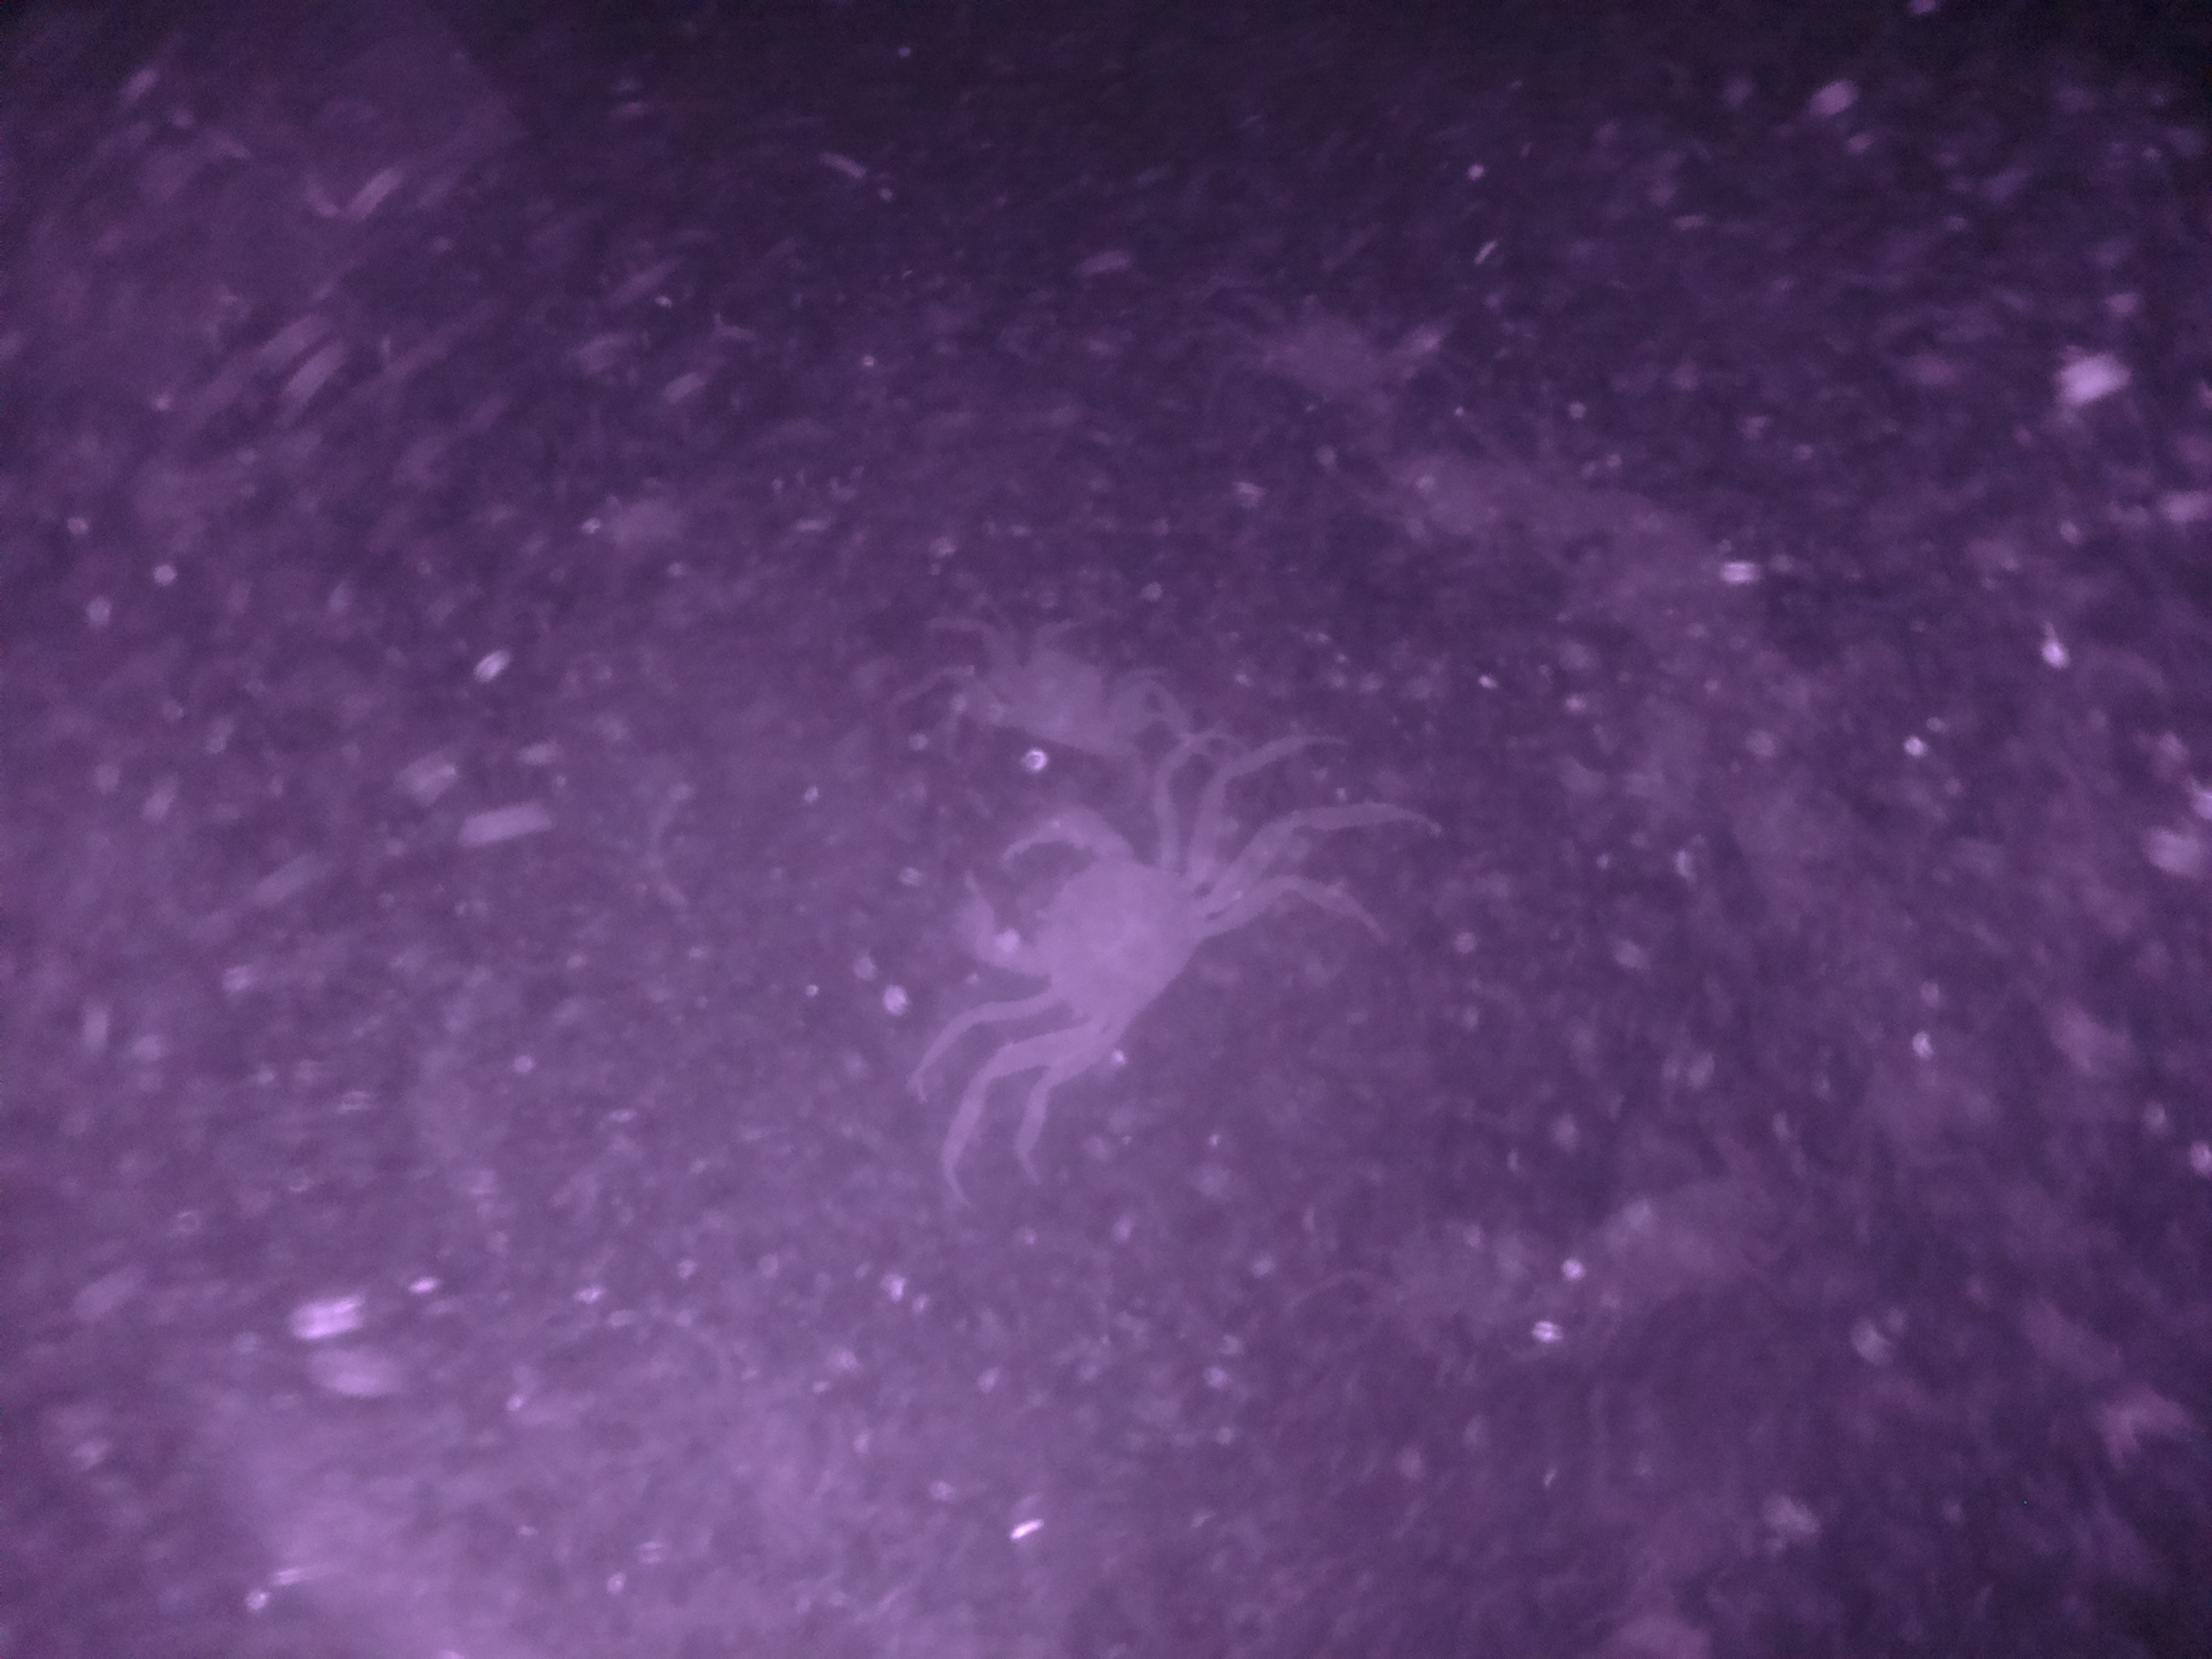Crab: (935, 796, 1251, 1073)
